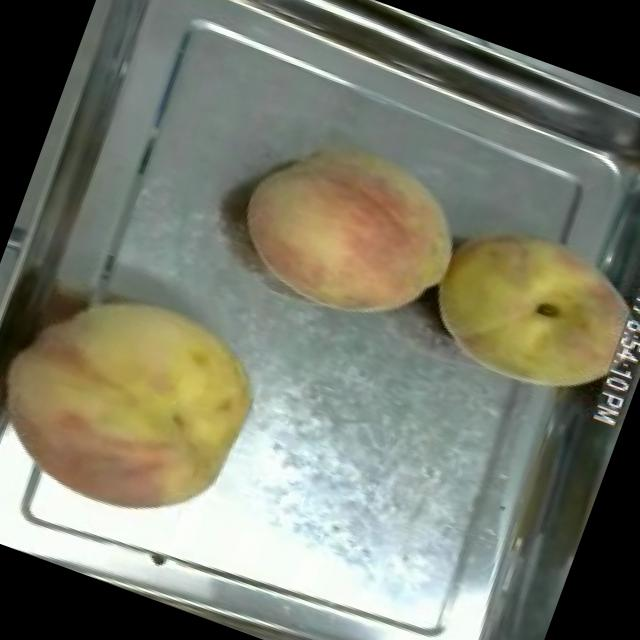Fruit: (0, 246, 290, 555), (214, 106, 486, 354), (408, 194, 640, 425)
